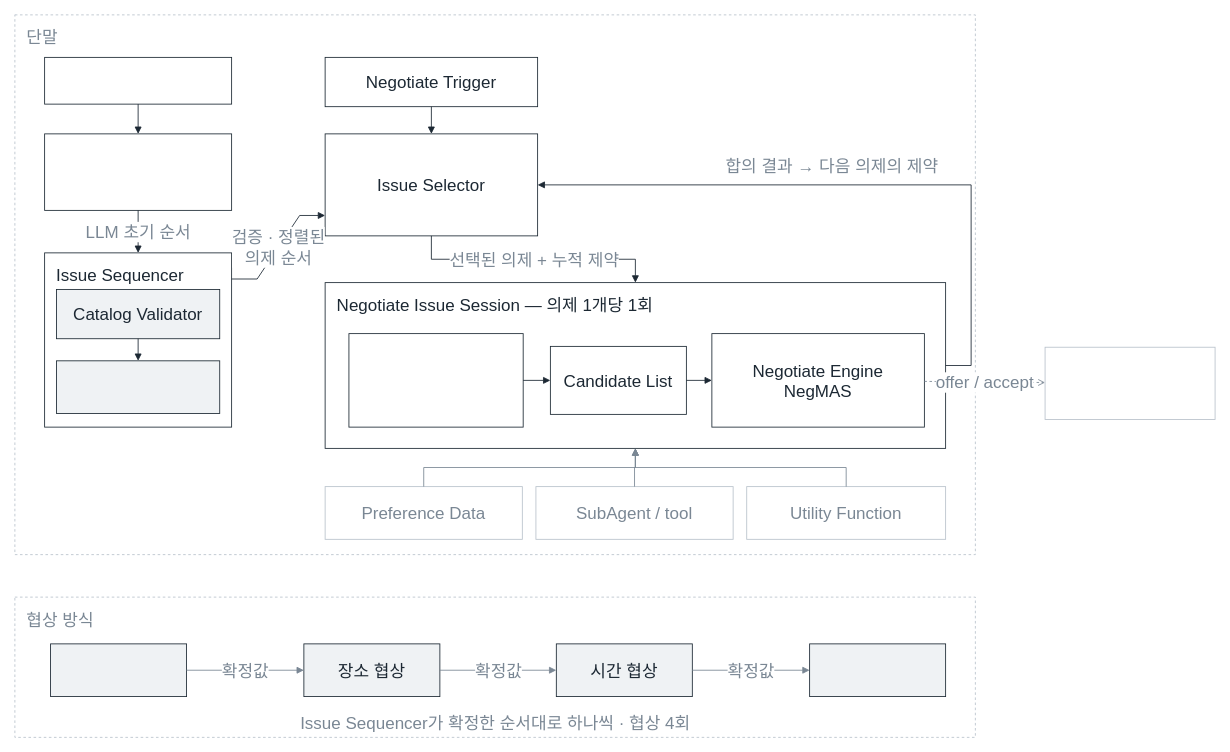
The diagram is 1230 pixels wide and 752 high, and some of its shapes have lost their labels. Each missing label, with the centre of its shape:
Candidates Builder: pixel 435 380
Issue Catalog: pixel 138 171
Ordering Policy: pixel 138 387
Planner: pixel 138 80
날짜 협상: pixel 118 670
상대 단말 Negotiate Engine: pixel 1129 382
식당 협상: pixel 877 670
